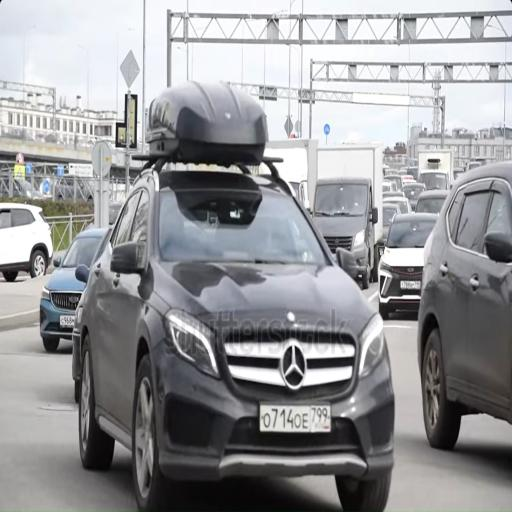License plates: (260, 404, 331, 432), (60, 315, 74, 328), (401, 281, 421, 290), (379, 248, 383, 256), (332, 253, 335, 259)
